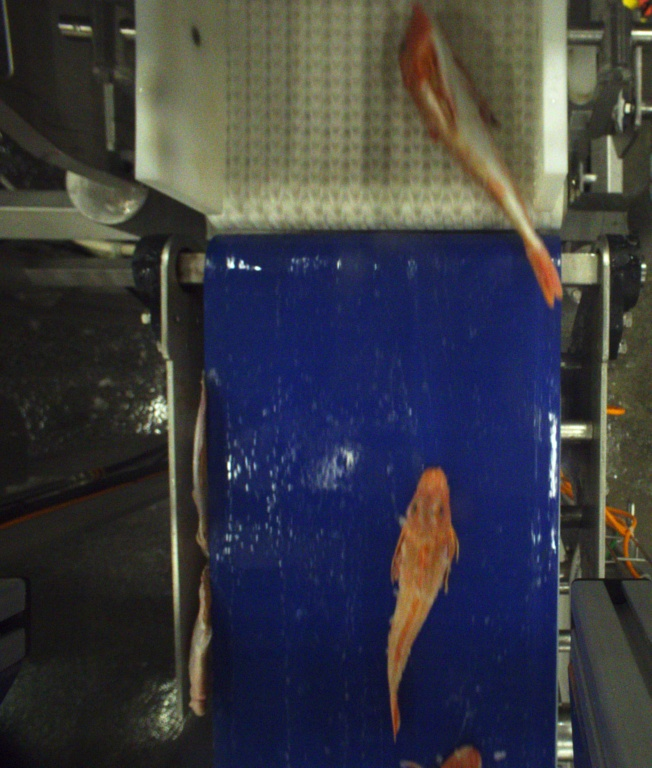GUU: (385, 468, 456, 741)
